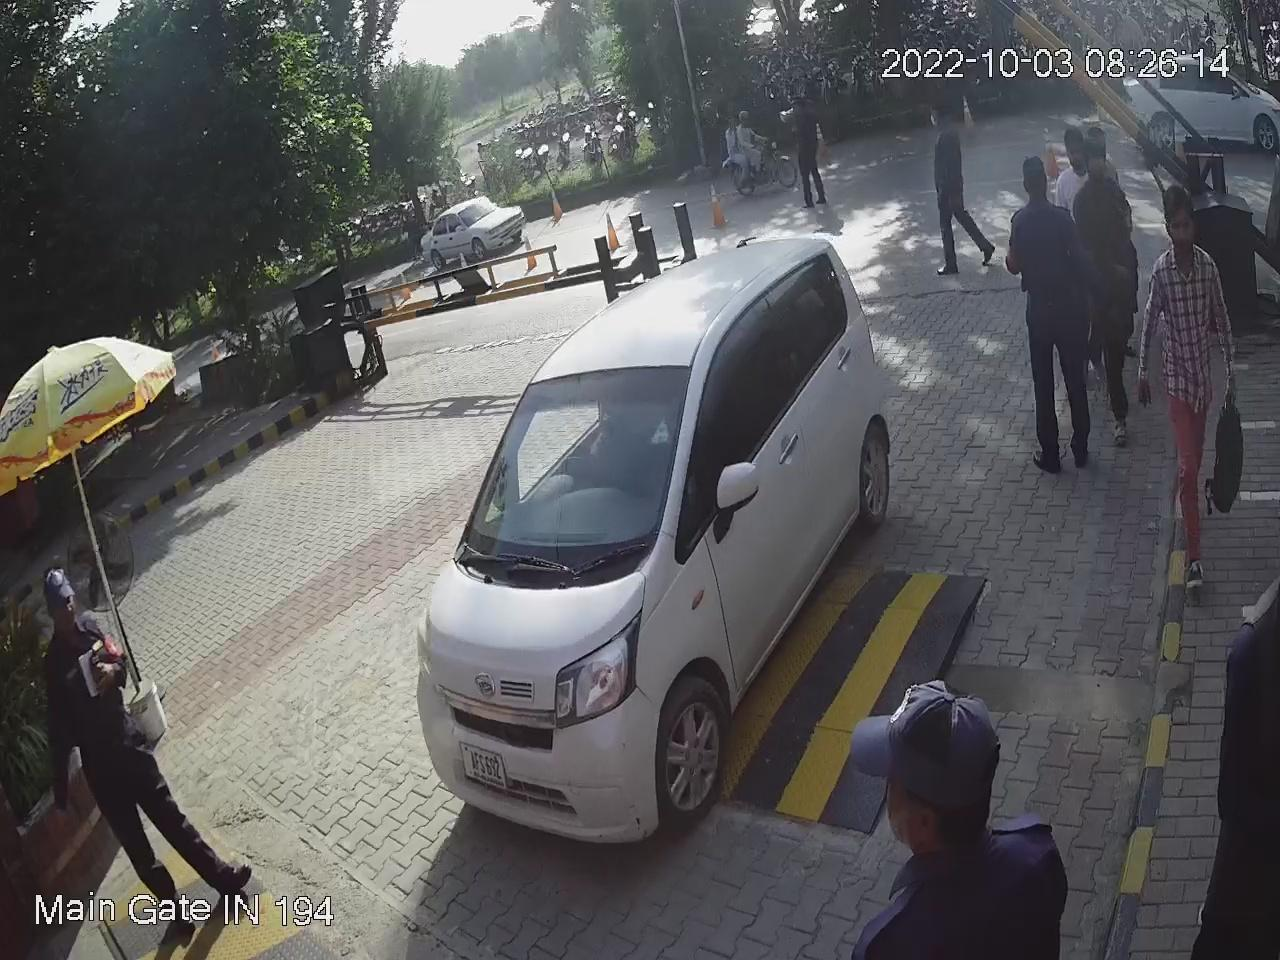windshield: (463, 358, 708, 570)
